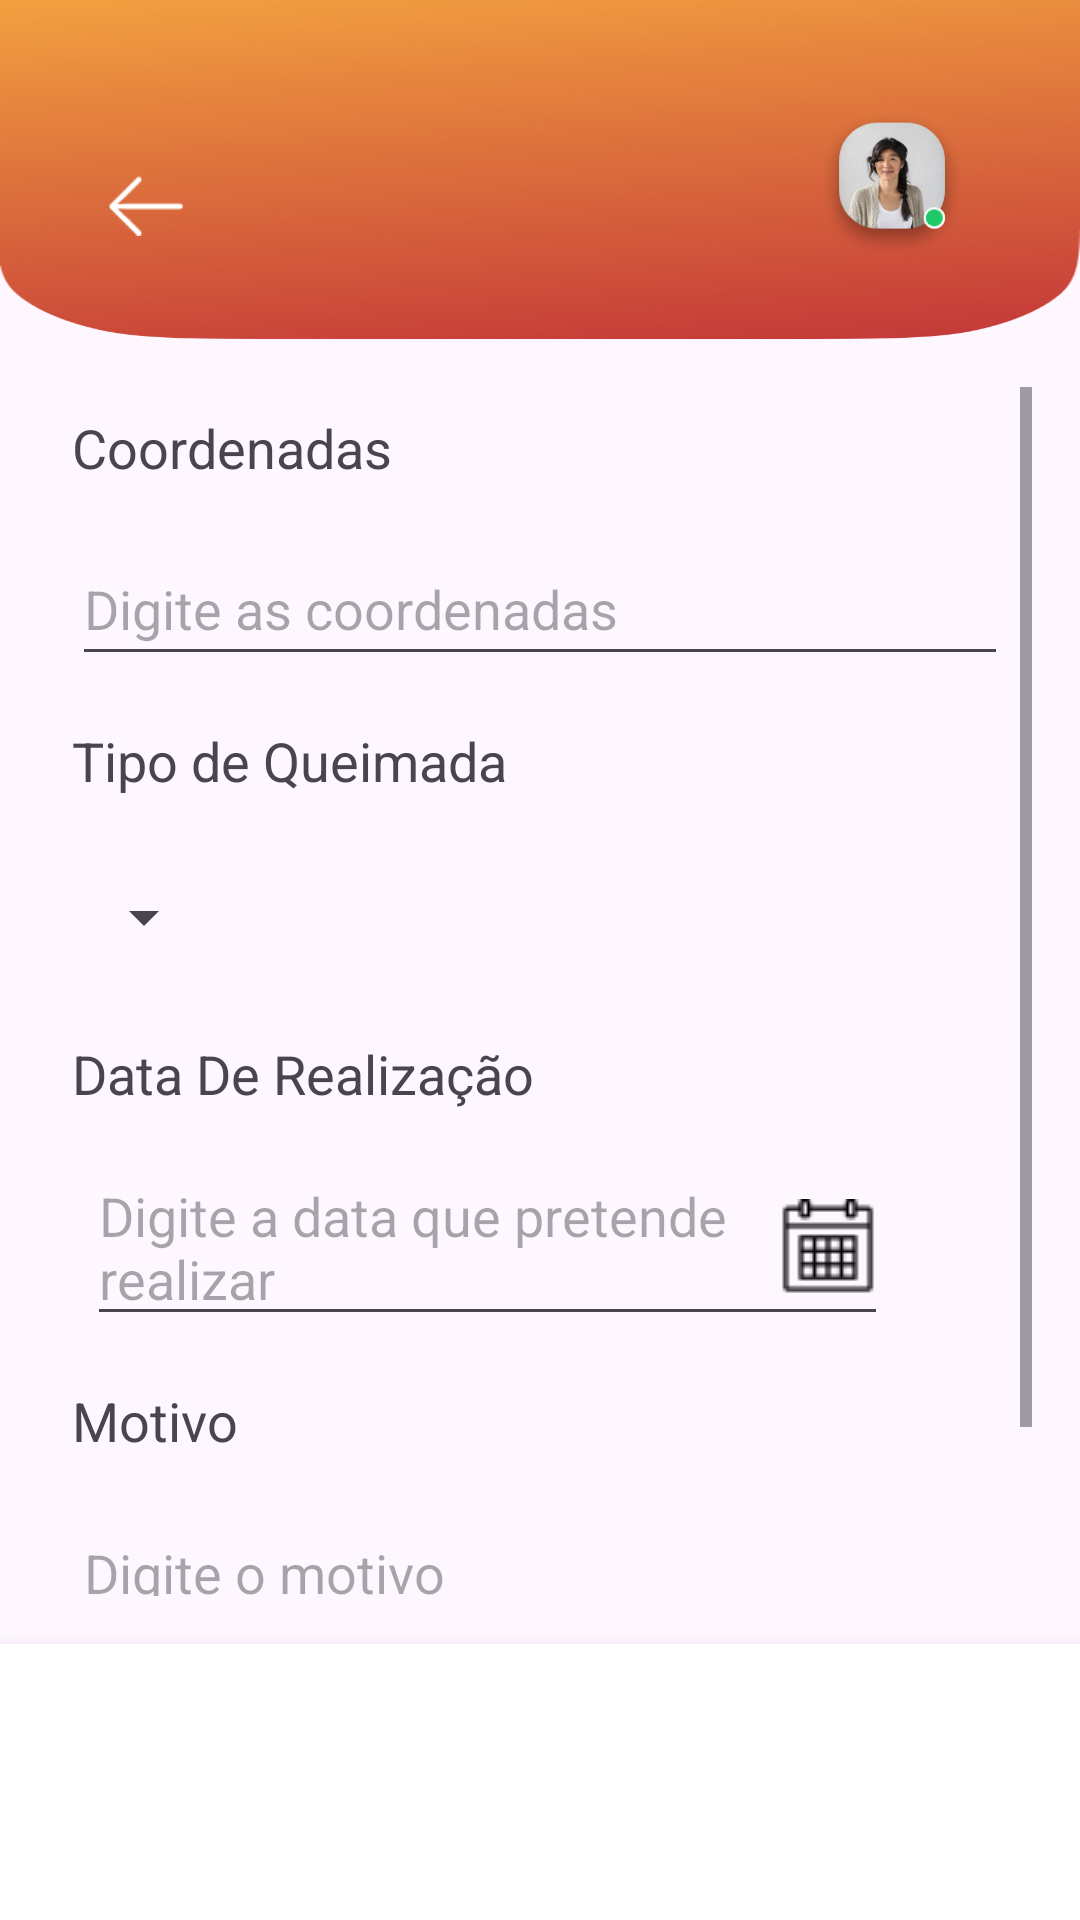

Point at icon controls on the screen. Image size 1080 × 1920, points as point (x, y).
profile: point (891, 183)
setaback: point (146, 206)
